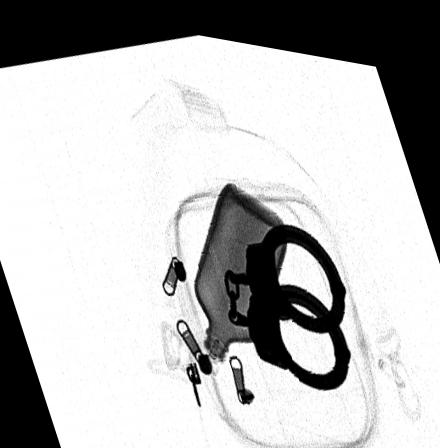HandCuffs: (222, 213, 351, 378)
